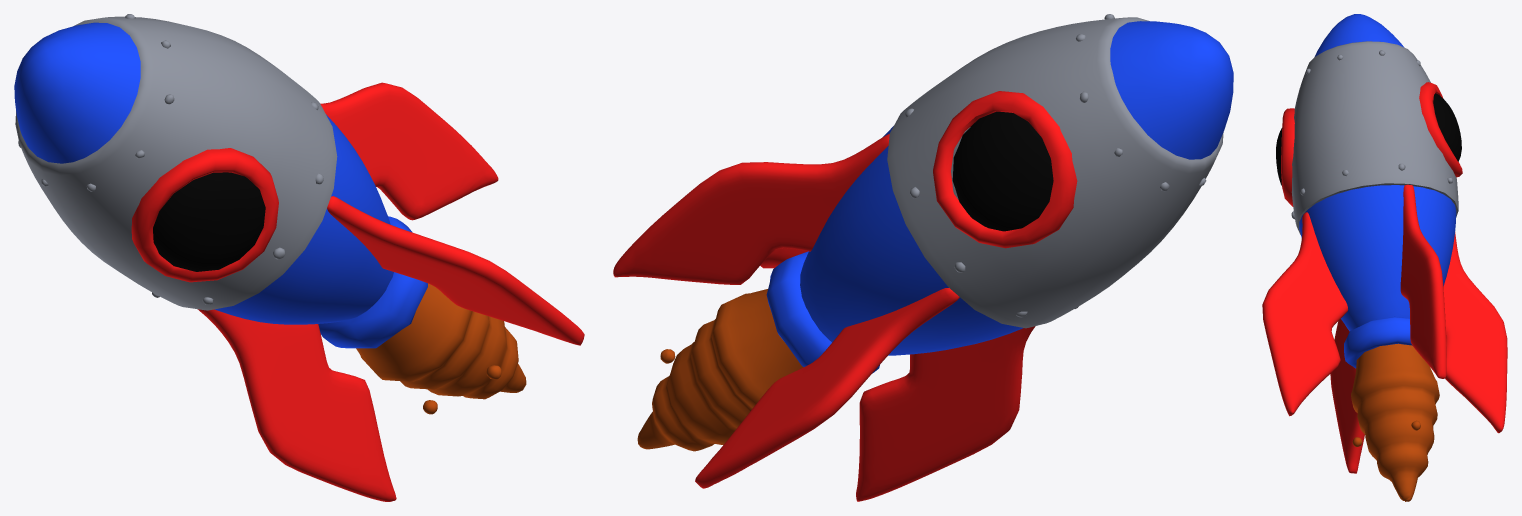
Rendered from rocket.fbx.
3 renders of one model, left to right at view 1: azimuth 30°, elevation 25°; view 2: azimuth 150°, elevation 25°; view 3: azimuth 270°, elevation 25°, orthographic. The views are drawn at different scales.
Parts seen in each view (by area): view 1: rocket4; view 2: rocket4; view 3: rocket4.
Part boxes in pixels (<box>): rocket4: <box>14,14,584,501</box>; rocket4: <box>613,14,1233,501</box>; rocket4: <box>1262,14,1507,501</box>.
Bounding box in the file's own units: 0.5331 × 0.5091 × 0.3206.
